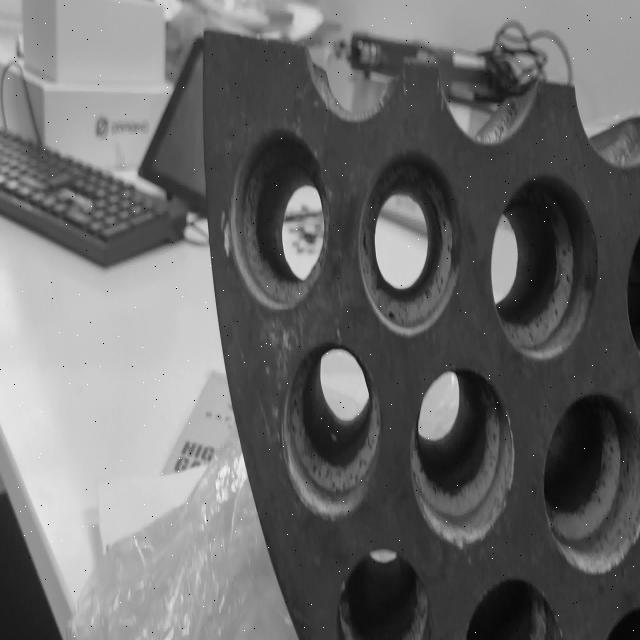Hole: (489, 173, 598, 361), (357, 151, 462, 335), (226, 126, 330, 311), (412, 366, 516, 547), (281, 342, 381, 520), (544, 392, 639, 575), (337, 548, 433, 640), (460, 576, 570, 640)
